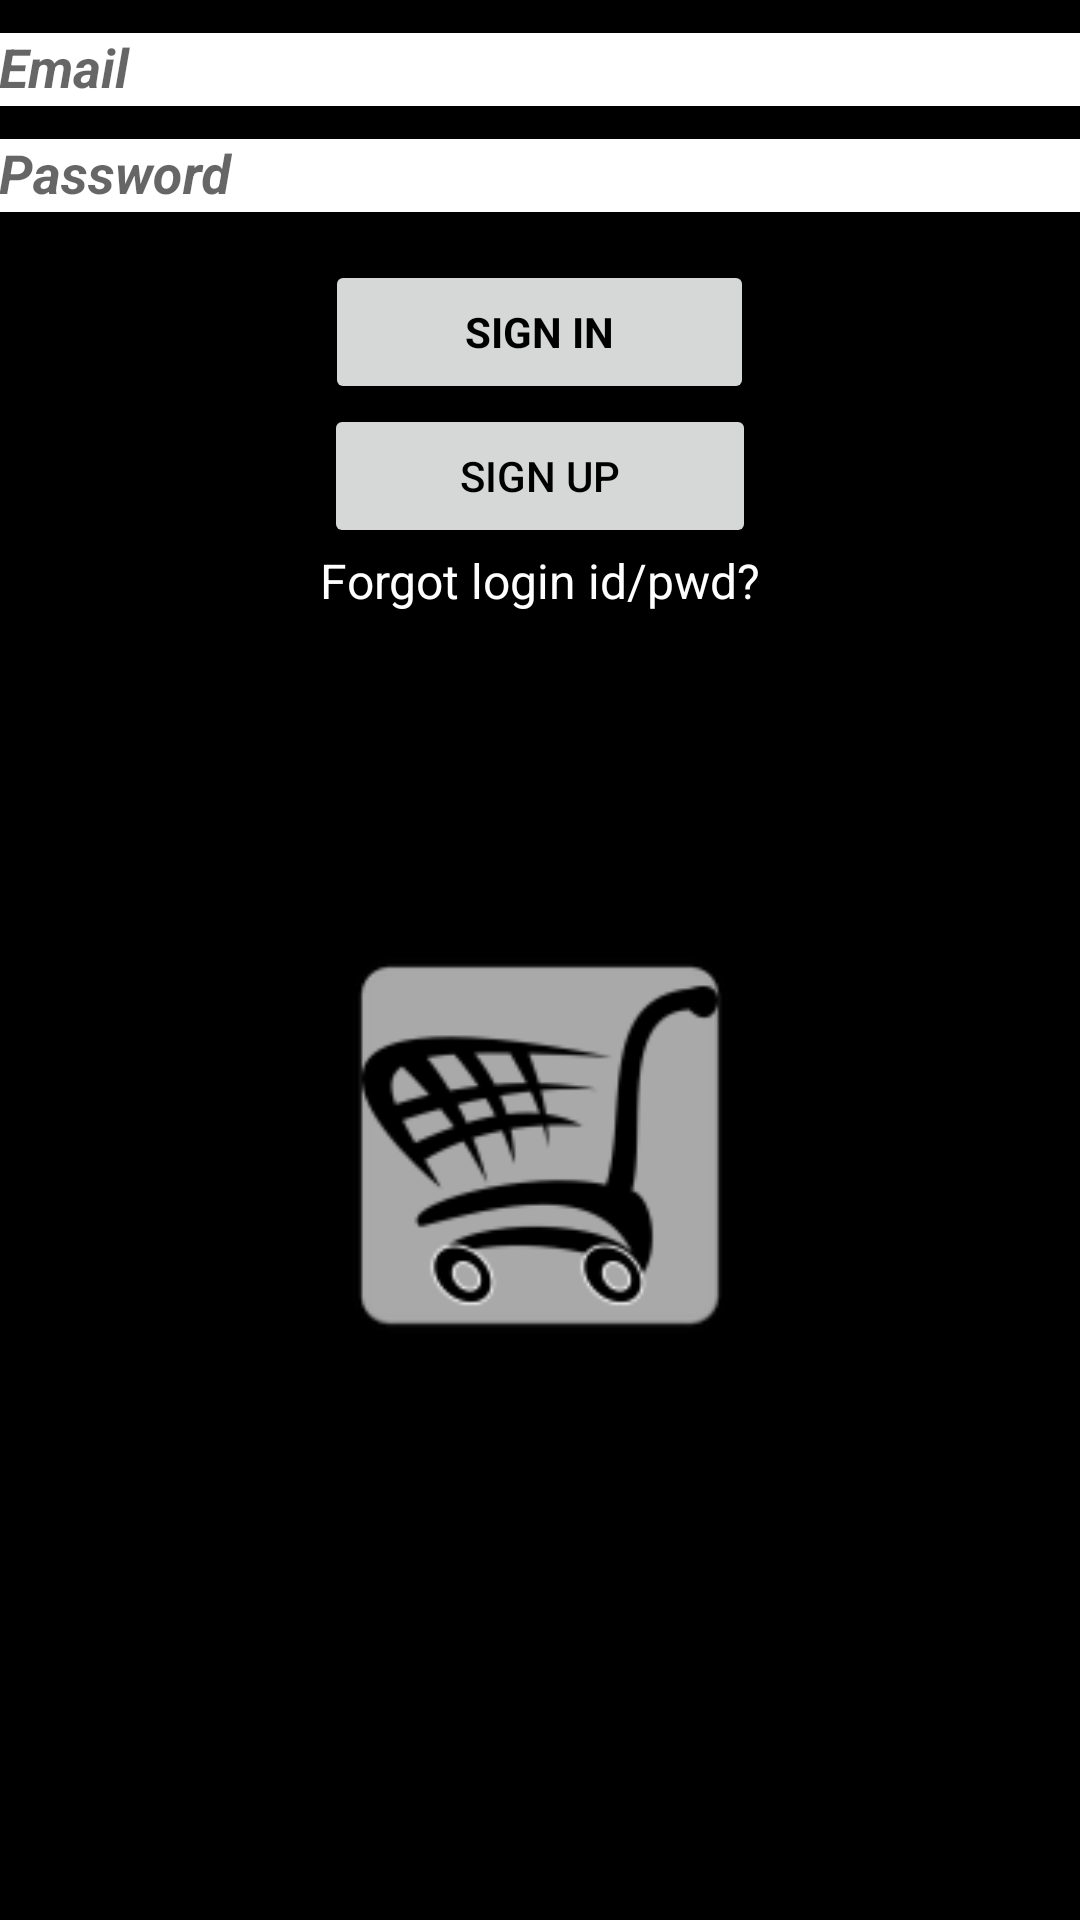

Icon click points for this 1080 x 1920 phone screenshot, format (x=x, y=y):
basketicon: (x=540, y=1145)
